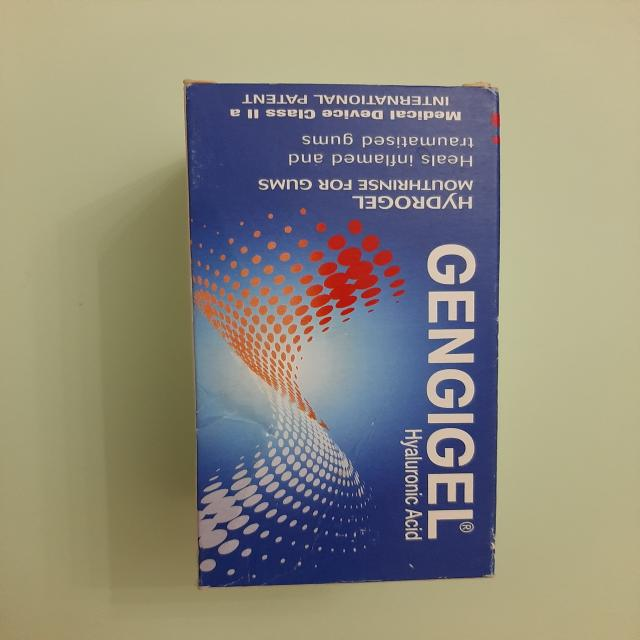medicine_packaging: (171, 65, 524, 606)
